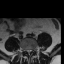CCS_normal: (28, 48, 30, 56)
LFS_severe_stenosis: (32, 47, 34, 52)
LLS_stenosis: (30, 48, 32, 53)
RFS_severe_stenosis: (24, 47, 26, 54)
RLS_stenosis: (26, 48, 28, 54)
